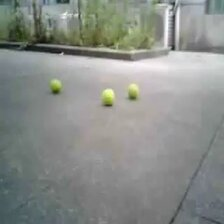tennis: (102, 89, 114, 106), (51, 78, 62, 92), (128, 84, 138, 98)
